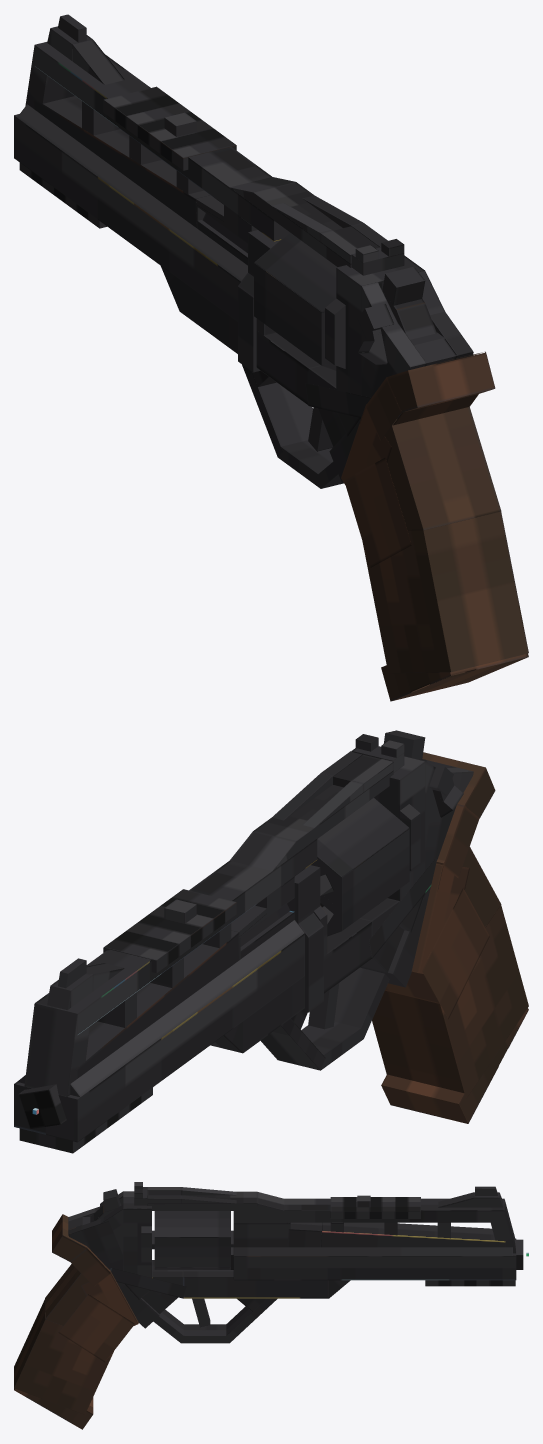
The model's file is rhino.obj.
The picture shows the model from 3 angles, top to bottom: view 1: azimuth 30°, elevation 25°; view 2: azimuth 150°, elevation 25°; view 3: azimuth 270°, elevation 25°; orthographic projection. The views are drawn at different scales.
Visible parts, largest first — view 1: gun_77, rotatey_28, chamber_4; view 2: gun_77, rotatey_28, chamber_4, _cb_scope_1; view 3: gun_77, rotatey_28.
Part boxes in pixels (<box>): gun_77: <box>14,14,528,701</box>; rotatey_28: <box>254,232,337,370</box>; chamber_4: <box>202,213,279,372</box>; gun_77: <box>14,730,528,1153</box>; rotatey_28: <box>311,798,409,936</box>; chamber_4: <box>240,865,323,1012</box>; _cb_scope_1: <box>164,899,196,923</box>; gun_77: <box>14,1182,523,1429</box>; rotatey_28: <box>152,1211,233,1269</box>.
Size of the model in its own units: 0.2815 by 1.19 by 2.41.
